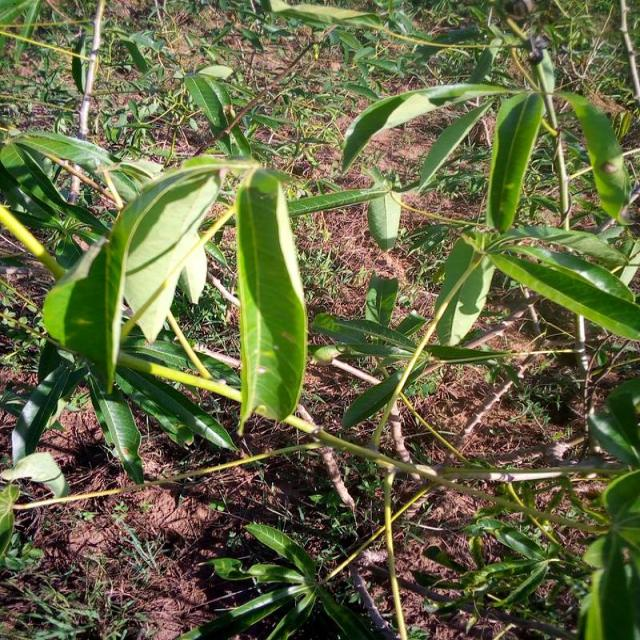cassava leaf: (42, 154, 223, 394), (235, 167, 308, 432), (486, 89, 543, 234)
